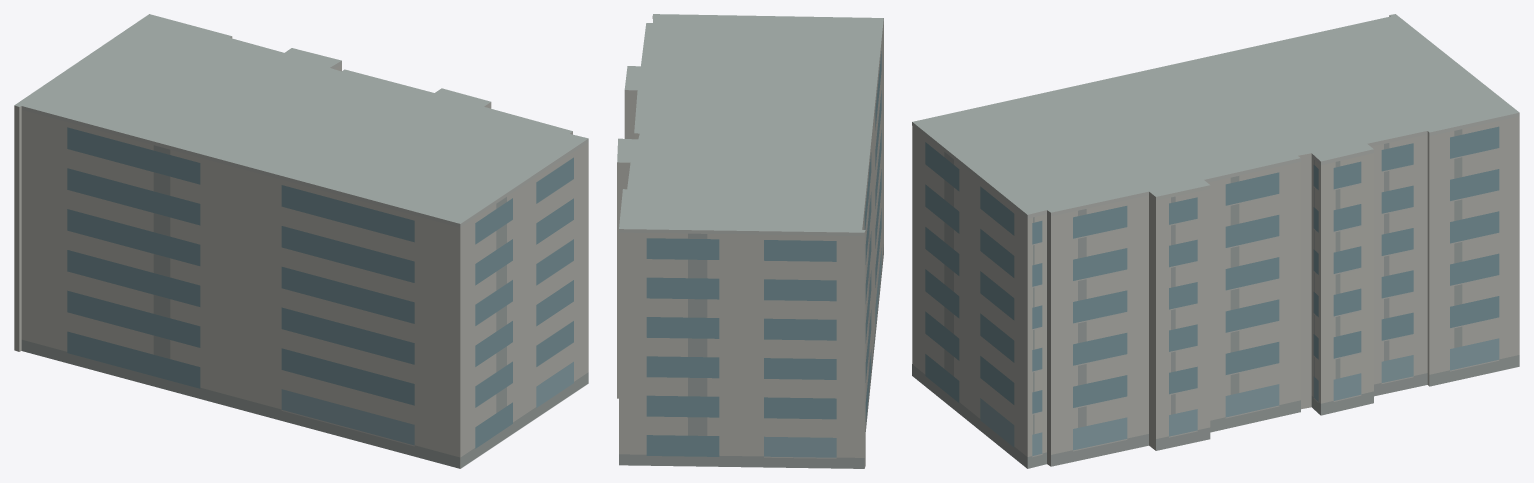
Rendered from survey-upis-32836159.glb.
The picture shows the model from 3 angles, left to right: view 1: azimuth 30°, elevation 25°; view 2: azimuth 150°, elevation 25°; view 3: azimuth 270°, elevation 25°; orthographic projection. The views are drawn at different scales.
Visible parts, largest first — view 1: survey-upis-32836159.tmp; view 2: survey-upis-32836159.tmp; view 3: survey-upis-32836159.tmp.
Part boxes in pixels (<box>): survey-upis-32836159.tmp: <box>14,14,588,468</box>; survey-upis-32836159.tmp: <box>617,14,883,468</box>; survey-upis-32836159.tmp: <box>912,14,1519,468</box>.
Size of the model in its own units: 27.57 by 16.25 by 35.23.
